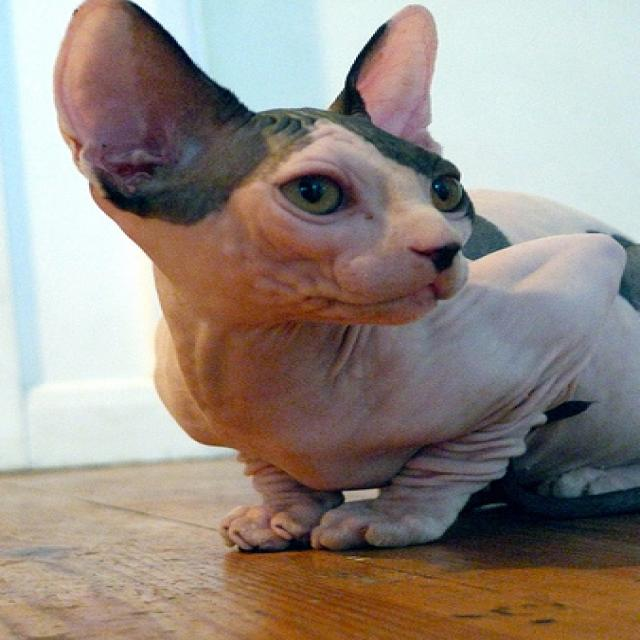Sphynx: (47, 0, 639, 560)
